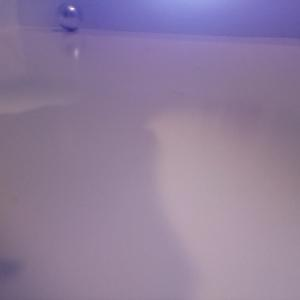alive_ball: (55, 3, 81, 31)
